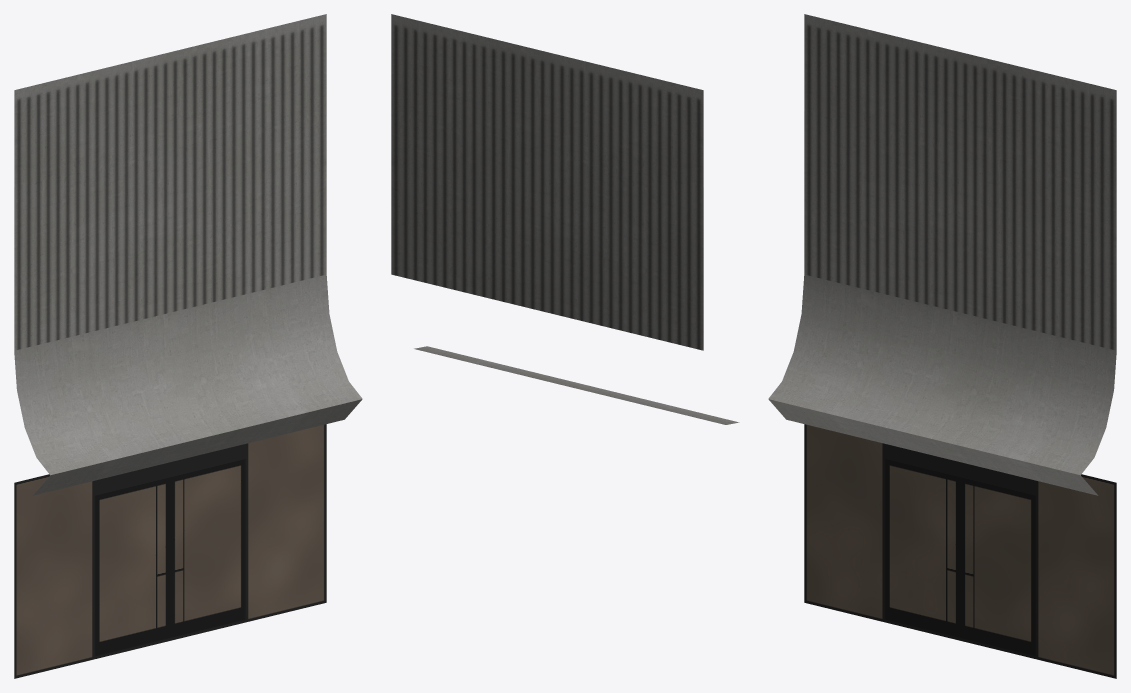
Rendered from door.gltf.
3 renders of one model, left to right at view 1: azimuth 30°, elevation 25°; view 2: azimuth 150°, elevation 25°; view 3: azimuth 330°, elevation 25°, orthographic.
Parts seen in each view (by area): view 1: door; view 2: door; view 3: door.
Boxes of the visible parts, left/top/right/bottom form: door: left=14, top=14, right=362, bottom=678; door: left=391, top=14, right=739, bottom=424; door: left=768, top=14, right=1116, bottom=678.
Size of the model in its own units: 5 by 9 by 1.
3 materials, 3 textured.
